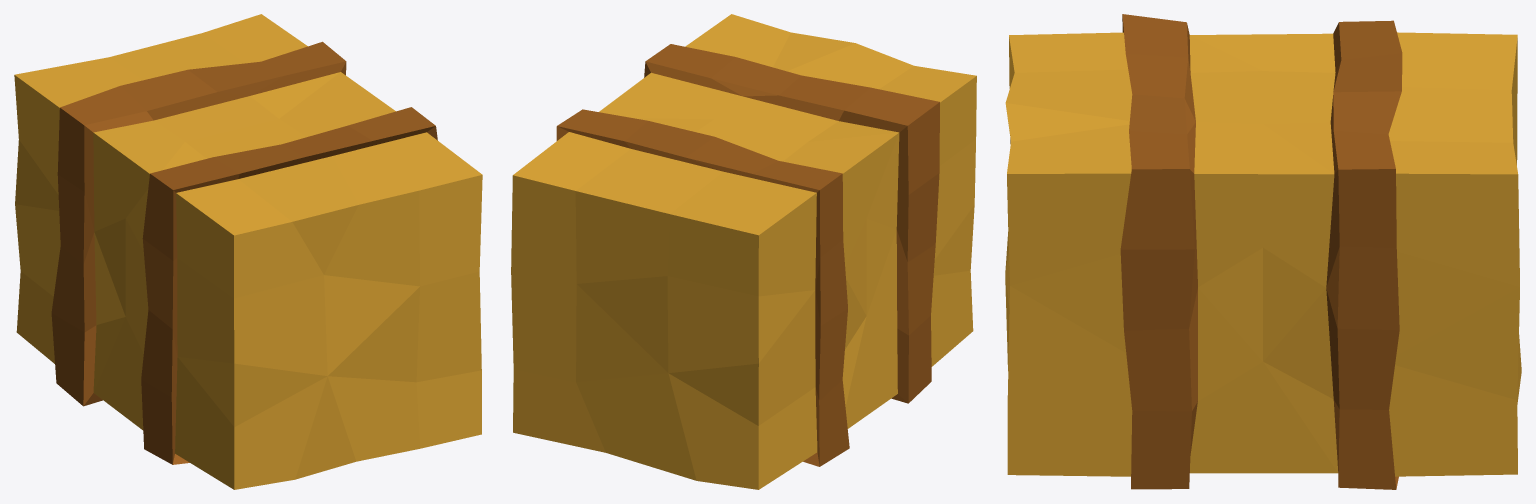
Rendered from HayBale.fbx.
3 renders of one model, left to right at view 1: azimuth 30°, elevation 25°; view 2: azimuth 150°, elevation 25°; view 3: azimuth 270°, elevation 25°, orthographic. The views are drawn at different scales.
Visible parts, largest first — view 1: Cube; view 2: Cube; view 3: Cube.
Part boxes in pixels (bbox=[...]): Cube: bbox=[14, 14, 482, 489]; Cube: bbox=[511, 14, 976, 489]; Cube: bbox=[1005, 14, 1521, 489].
Bounding box in the file's own units: 2.16 × 2.16 × 3.08.
